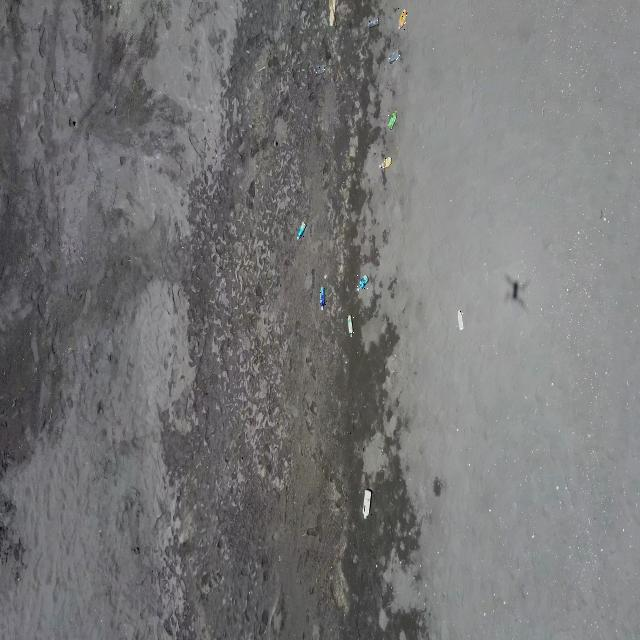plastic-bottle: (362, 489, 372, 519), (398, 8, 408, 30), (357, 274, 369, 292), (388, 110, 397, 130), (297, 221, 306, 240), (379, 156, 392, 169), (347, 314, 354, 338), (319, 287, 326, 310), (458, 309, 464, 330)
takeaway-cup: (388, 50, 400, 64), (368, 16, 380, 28), (314, 65, 325, 76)
